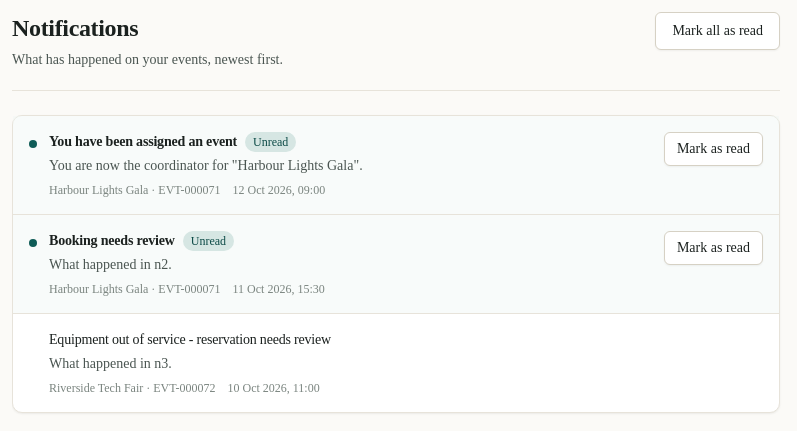
Test case: Notifications page (SPM-71) › marking as read › [SPM-71][AC4] AC4: marks all as read, and the button goes once nothing is unread
Click the button "Mark all as read". click: [718, 31]
box: [655, 12, 780, 50]
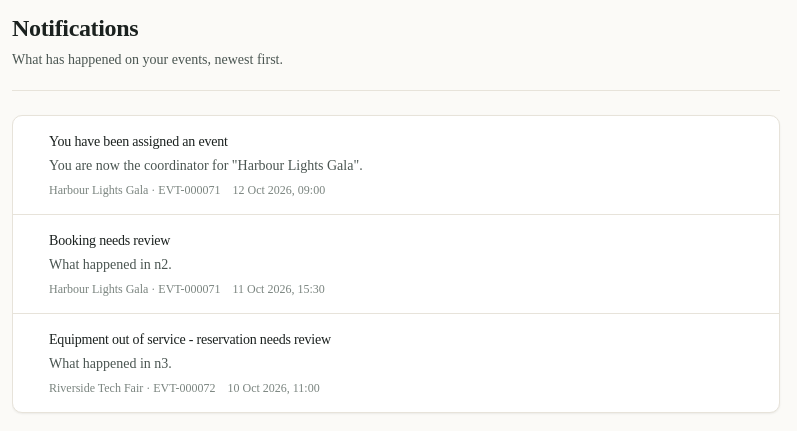
Expected: the text "Unread" is gone
Expected: the button "Mark as read" is gone
Expected: the button "Mark all as read" is gone
